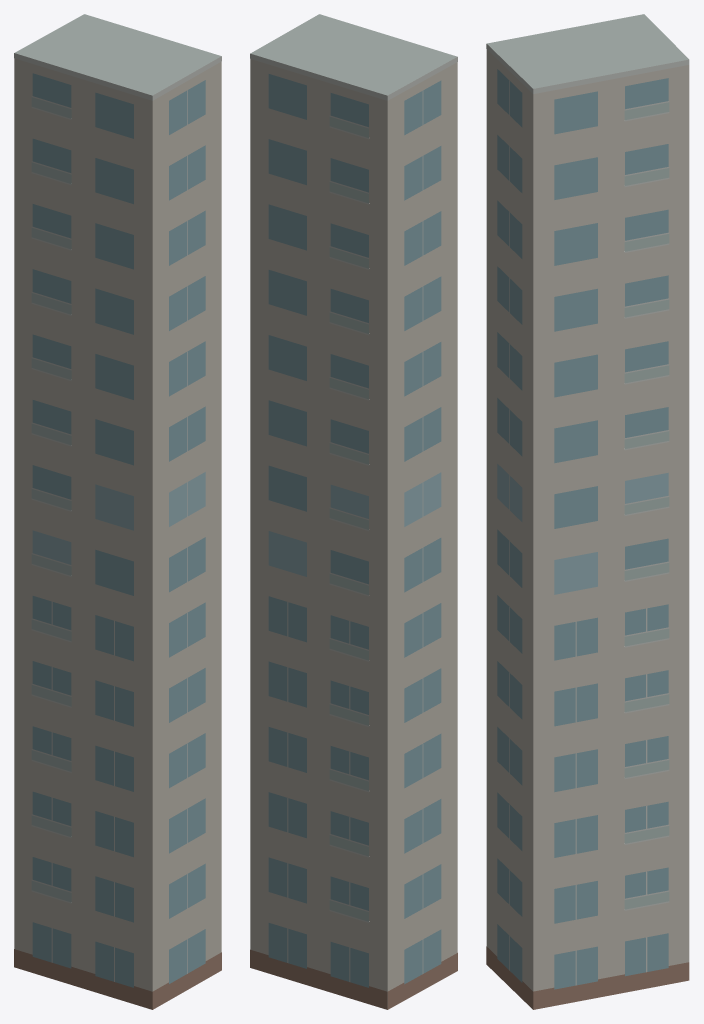
The model's file is survey-upis-32833239.glb.
3 renders of one model, left to right at view 1: azimuth 30°, elevation 25°; view 2: azimuth 210°, elevation 25°; view 3: azimuth 270°, elevation 25°, orthographic.
Visible parts, largest first — view 1: survey-upis-32833239.tmp; view 2: survey-upis-32833239.tmp; view 3: survey-upis-32833239.tmp.
Part boxes in pixels (x1,y1,x2,y2): survey-upis-32833239.tmp: [14, 14, 221, 1009]; survey-upis-32833239.tmp: [250, 14, 457, 1009]; survey-upis-32833239.tmp: [486, 14, 689, 1009].
Size of the model in its own units: 7.46 by 42.7 by 8.54.
